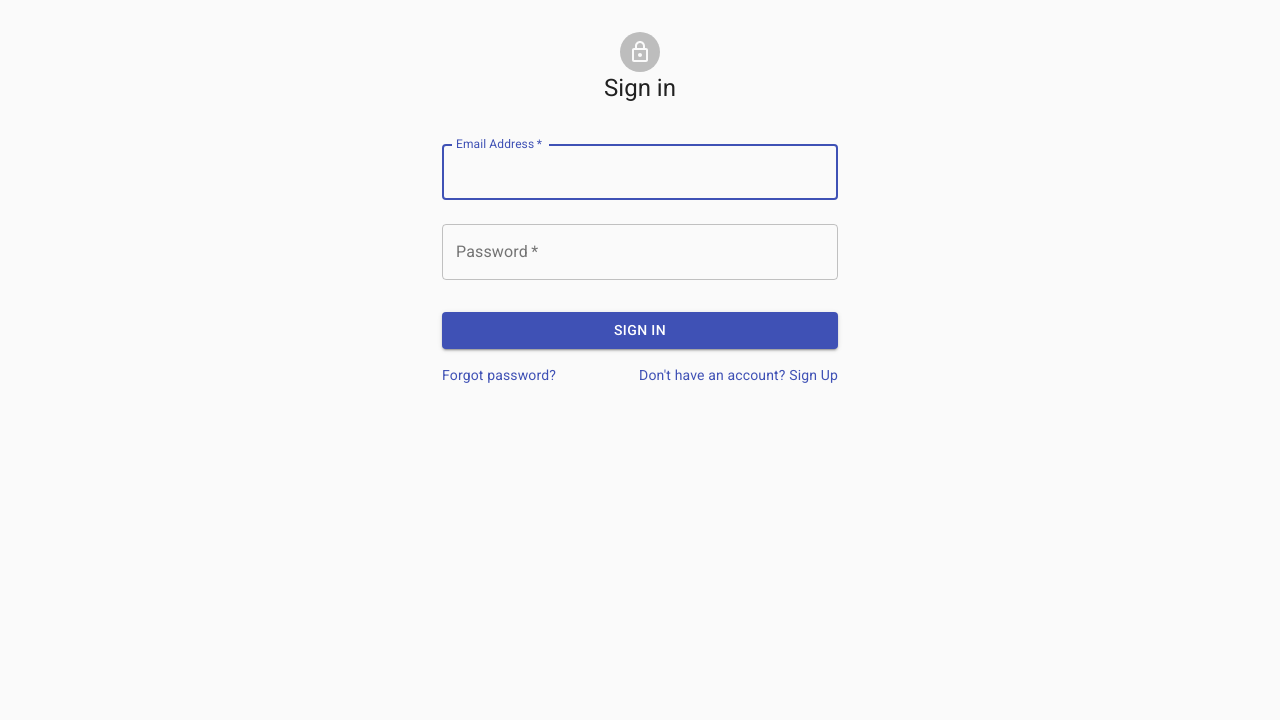
Test: Signin › modal alerts server error
The image size is (1280, 720).
Type "serverError@gmail.com" into the field with test id "email-signin" at (640, 172), box [442,144,838,200]
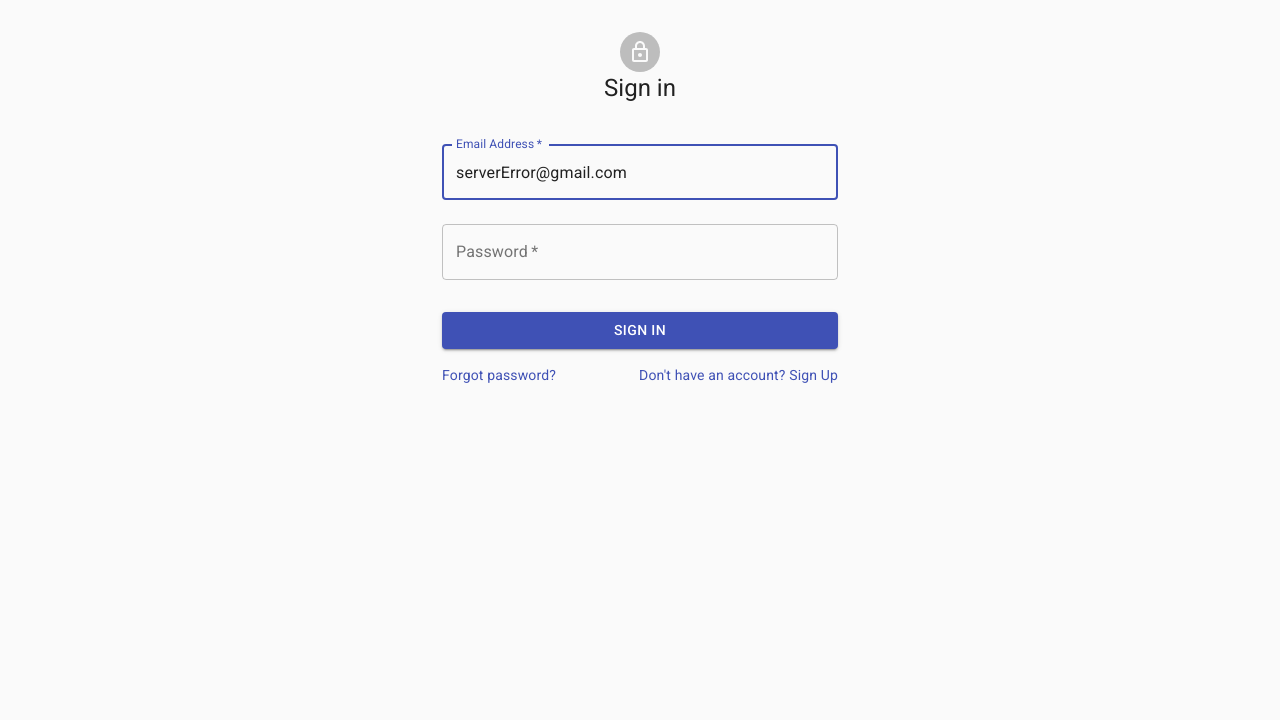
Click the button at (640, 330), box [442,312,838,348]
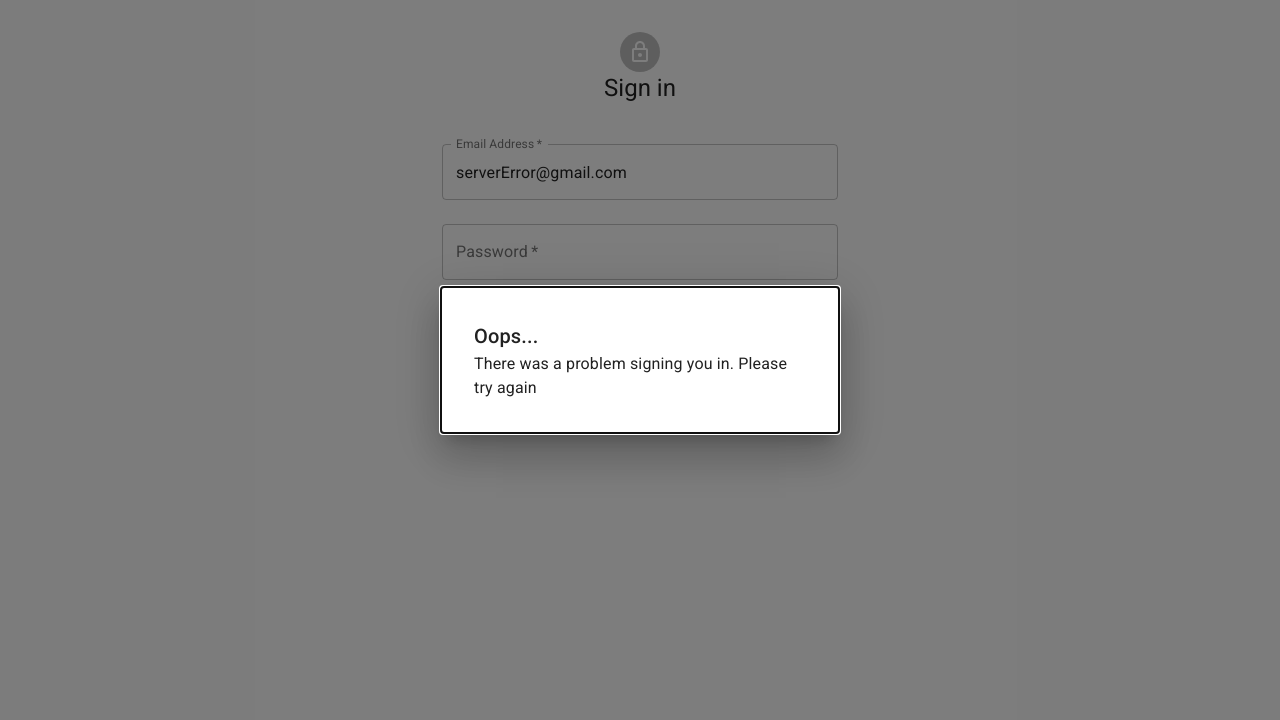
Result: the heading "Oops..." is shown at [474,324,538,348]
